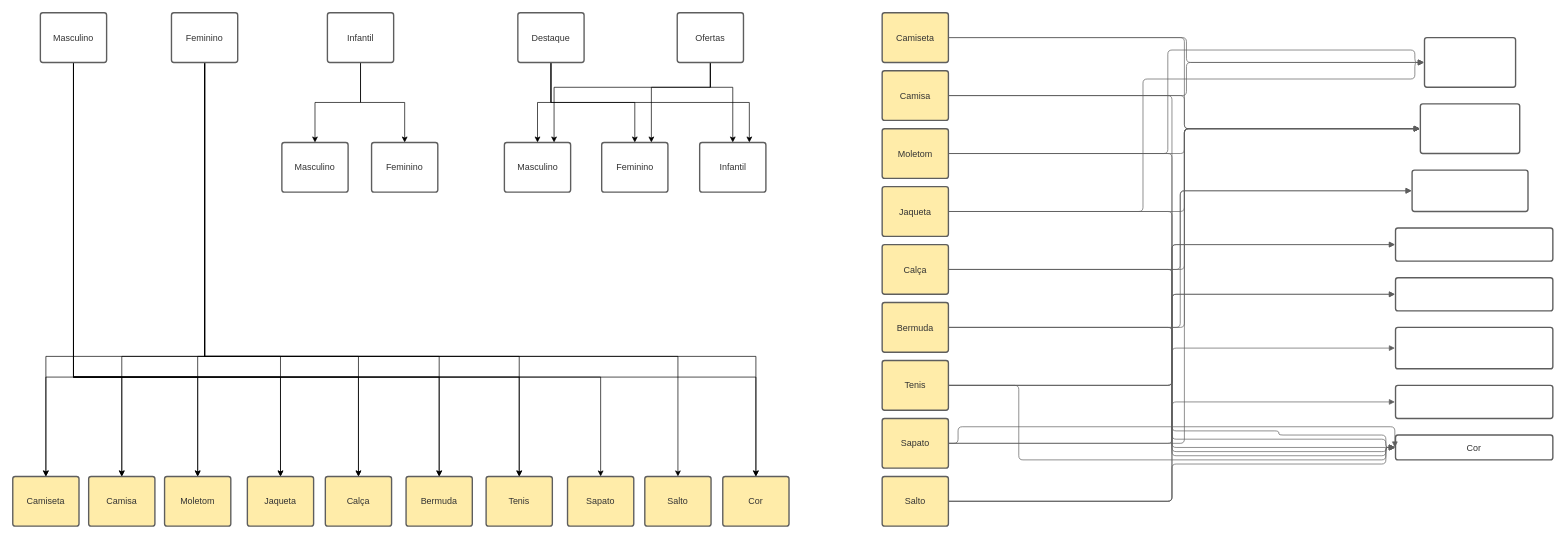
This 1565x538 diagram has some shape labels left out. The shapes that lost their labels are listed below. From the top down, each one's box as (x1, y1, x2, y2) in pixels, then its label:
(1423, 37, 1516, 88): Tamanho Adulto (PP,P,M,G,GG)
(1419, 103, 1520, 154): Tamanho Infantil (3-5, 6-8, 9-11, 12-14)
(1411, 169, 1528, 212): Tamanho Calça (34,36,38,40,42,44,46,48)
(1394, 227, 1553, 262): Tamanho Calçado Feminino (32,33,34,35,36,37,38,39,40,41,42)
(1394, 277, 1553, 311): Tamanho Calçado Masculino (37,38,39,40,41,42,43,44)
(1394, 326, 1553, 369): Tamanho Calçado Infantil (19,20,21,22,23,24,25,26,27,28,29, 30,31,32,33)
(1394, 384, 1553, 419): Altura do Salto (3cm,6cm,8cm,10cm,12cm,13cm)
